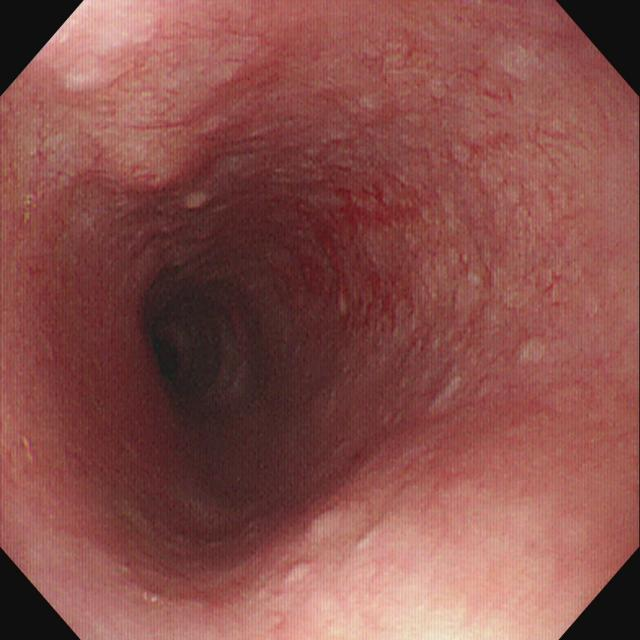D: (300, 190, 427, 330)
E: (152, 329, 203, 380)
